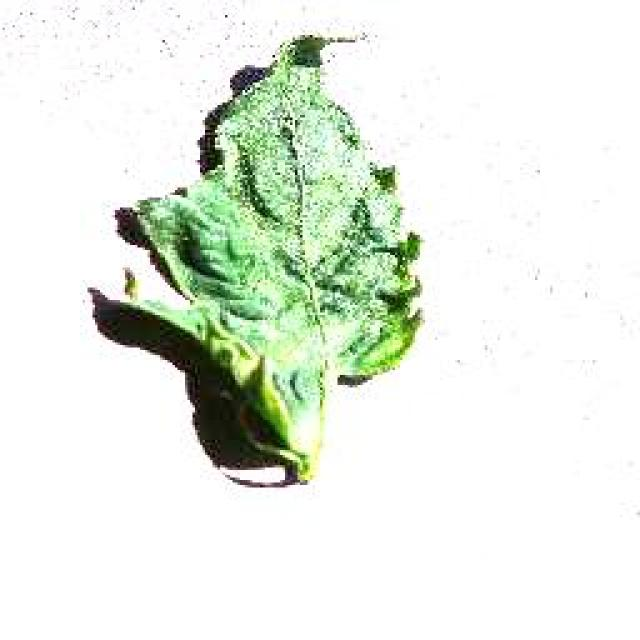Tomato___Tomato_mosaic_virus: (122, 35, 420, 480)
